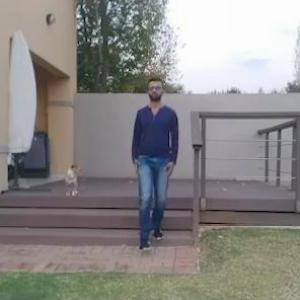follow: (138, 74, 181, 249)
